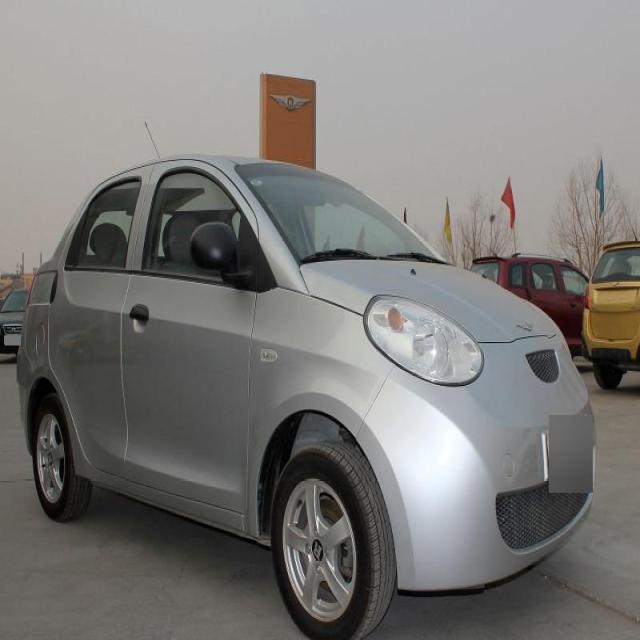door: (49, 170, 153, 480)
front_bumper: (354, 332, 594, 594)
front_glass: (235, 159, 441, 265)
front_right_side_door: (118, 156, 260, 522)
front_right_side_light: (363, 292, 484, 388)
front_right_side_mirror: (190, 219, 246, 284)
wheel: (268, 444, 386, 640), (33, 397, 83, 517)
